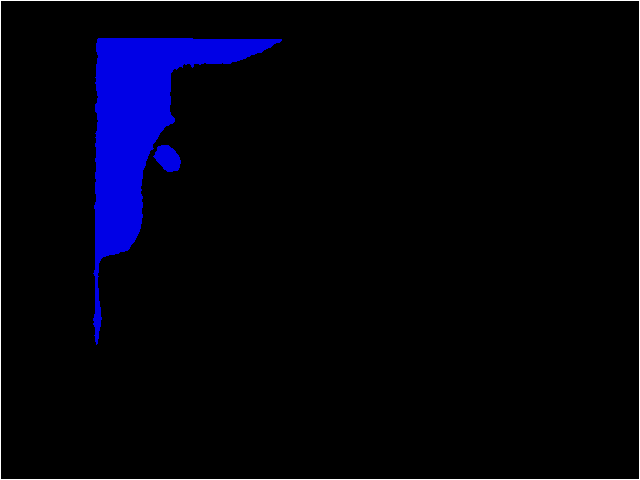defect: (94, 35, 284, 347), (152, 143, 182, 174)
